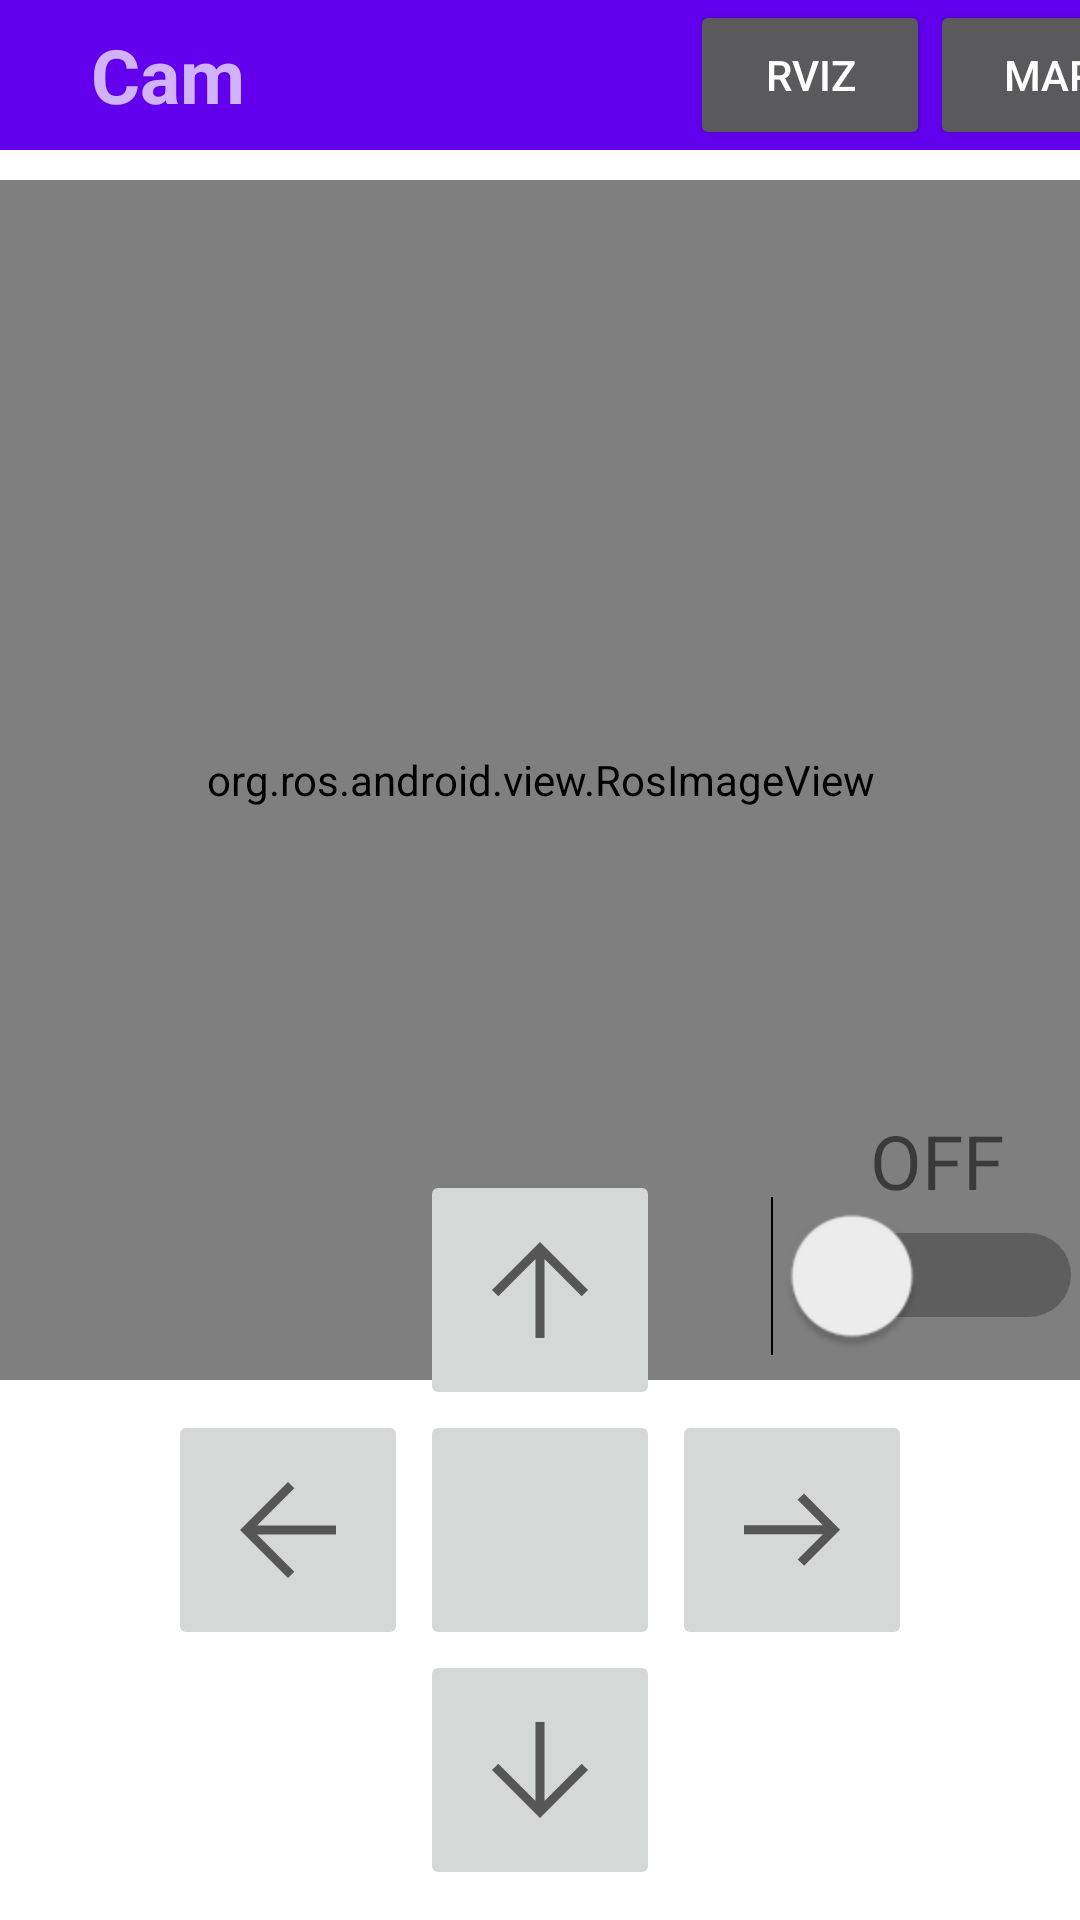

Where icons sit on this 1080×1920 app screen, as (x1=x1, y1=y1, x2=x2, y2=y2):
arrow back: (x1=180, y1=1428, x2=396, y2=1632)
arrow downward: (x1=432, y1=1668, x2=648, y2=1872)
arrow right: (x1=684, y1=1428, x2=900, y2=1632)
arrow upward: (x1=420, y1=1188, x2=660, y2=1410)
